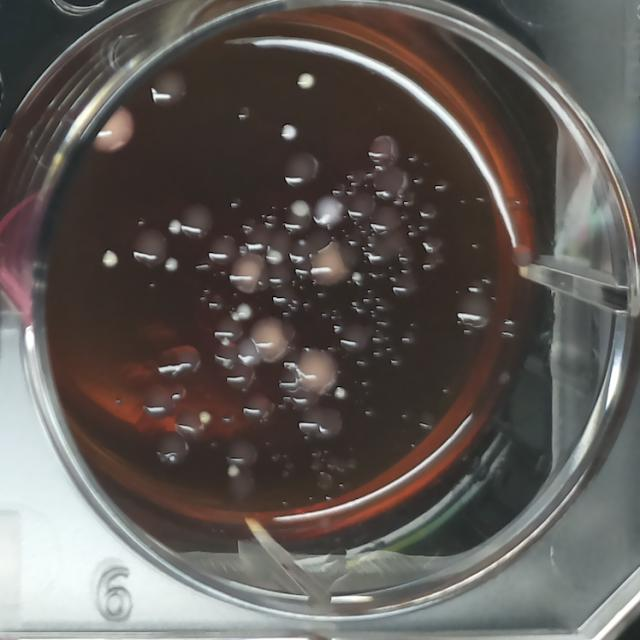Bacillus: (84, 101, 140, 161), (291, 342, 339, 396), (246, 312, 292, 366), (308, 240, 352, 289), (228, 250, 268, 296)
Staphylococcus: (99, 248, 121, 271), (289, 196, 311, 219), (295, 70, 316, 93), (279, 121, 300, 144), (234, 300, 253, 323), (161, 256, 181, 276), (264, 248, 284, 268), (165, 218, 184, 238), (332, 384, 349, 401), (196, 409, 213, 426), (224, 462, 240, 479), (351, 270, 363, 284), (296, 238, 306, 248)
Vibrio: (157, 342, 205, 384), (278, 146, 322, 190), (130, 224, 170, 268), (372, 162, 412, 204), (176, 200, 214, 243), (139, 381, 177, 421), (152, 428, 190, 468), (240, 390, 276, 428), (366, 131, 399, 167), (347, 188, 379, 225)
